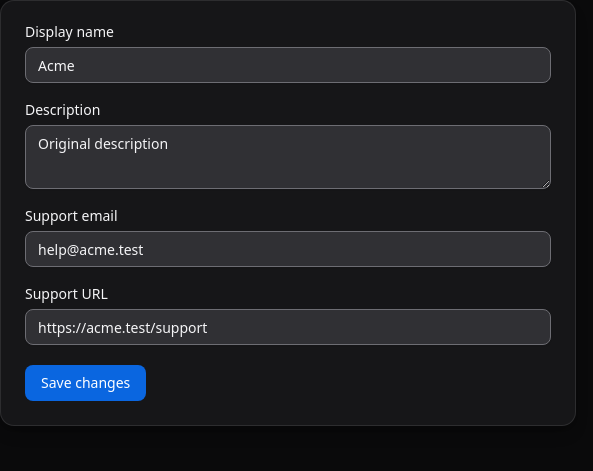
Scenario: OrganizationSettingsDetailPage › surfaces a server field error
The image size is (593, 471).
Expected: the field showing "Acme" is shown, [25, 47, 551, 83]
Click the button "Save changes" at coordinates (86, 383), box [25, 365, 146, 401]
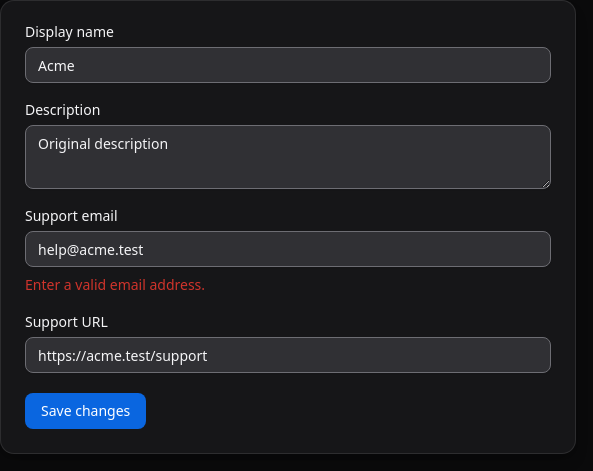
Result: the text "Enter a valid email address." is shown at [25, 275, 205, 294]
